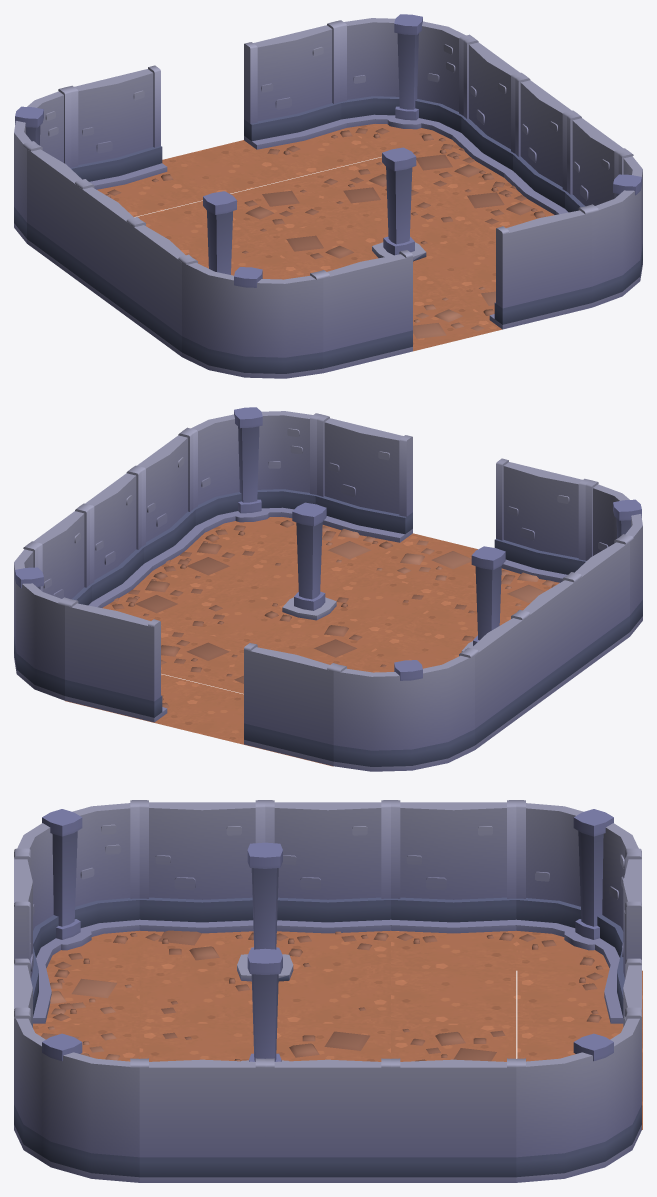
Rendered from large_room_2_opening.glb.
3 views of the same model, one above another, from view 1: azimuth 30°, elevation 25°; view 2: azimuth 150°, elevation 25°; view 3: azimuth 270°, elevation 25° (orthographic). The views are drawn at different scales.
Visible parts, largest first — view 1: template-corner, template-floor-big, template-corner.003, template-wall.009, template-wall.007, template-wall.010, template-wall.006, template-wall.002, template-wall.001, template-corner.001, template-wall.004, template-wall.003 (+14 smaller); view 2: template-floor-big, template-corner.001, template-corner.002, template-wall.007, template-wall.009, template-wall.006, template-wall.010, template-floor-big.001, template-wall, template-wall.001, template-corner, template-wall.004 (+13 smaller); view 3: template-floor-big.001, template-corner.002, template-corner.003, template-wall.003, template-corner, template-corner.001, template-wall, template-wall.004, template-wall.005, template-wall.002, template-wall.001, template-floor-big (+11 smaller).
Part boxes in pixels (bbox=[...]): template-corner: bbox=[334, 14, 473, 153]; template-floor-big: bbox=[258, 147, 495, 300]; template-corner.003: bbox=[182, 257, 323, 378]; template-wall.009: bbox=[244, 22, 352, 154]; template-wall.007: bbox=[483, 206, 591, 329]; template-wall.010: bbox=[66, 65, 173, 197]; template-wall.006: bbox=[318, 250, 412, 373]; template-wall.002: bbox=[440, 37, 524, 180]; template-wall.001: bbox=[491, 75, 576, 218]; template-corner.001: bbox=[586, 151, 642, 307]; template-wall.004: bbox=[78, 182, 139, 318]; template-wall.003: bbox=[27, 144, 88, 281]; template-floor-big: bbox=[169, 502, 450, 668]; template-corner.001: bbox=[183, 407, 322, 549]; template-corner.002: bbox=[333, 650, 474, 771]; template-wall.007: bbox=[315, 415, 412, 548]; template-wall.009: bbox=[65, 599, 169, 722]; template-wall.006: bbox=[494, 458, 590, 587]; template-wall.010: bbox=[244, 643, 338, 766]; template-floor-big.001: bbox=[347, 546, 519, 672]; template-wall: bbox=[132, 430, 219, 571]; template-wall.001: bbox=[80, 468, 167, 609]; template-corner: bbox=[14, 544, 70, 700]; template-wall.004: bbox=[517, 575, 578, 711]; template-floor-big.001: bbox=[139, 842, 390, 1023]; template-corner.002: bbox=[516, 800, 641, 970]; template-corner.003: bbox=[14, 800, 139, 970]; template-wall.003: bbox=[391, 800, 516, 943]; template-corner: bbox=[516, 1011, 641, 1182]; template-corner.001: bbox=[14, 1011, 139, 1182]; template-wall: bbox=[139, 1058, 265, 1182]; template-wall.004: bbox=[265, 800, 390, 943]; template-wall.005: bbox=[139, 800, 265, 943]; template-wall.002: bbox=[391, 1058, 516, 1182]; template-wall.001: bbox=[265, 1058, 390, 1182]; template-floor-big: bbox=[139, 948, 390, 1061].
Bounding box in the file's own units: 20 × 4.23 × 20.03.
6 materials, 6 textured.
